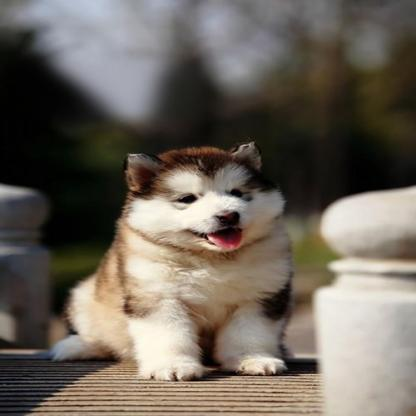dog: (51, 140, 306, 380)
